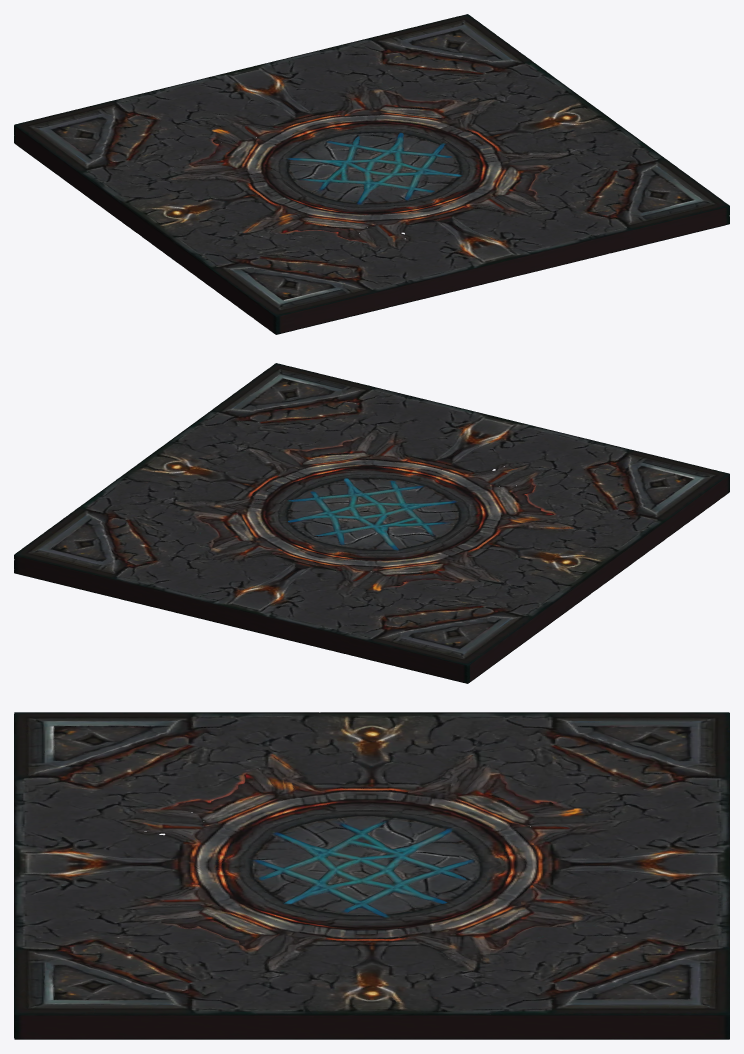
The model's file is HellFloor_RunePlate_A_UnrealReady.glb.
3 views of the same model, one above another, from view 1: azimuth 30°, elevation 25°; view 2: azimuth 150°, elevation 25°; view 3: azimuth 270°, elevation 25° (orthographic). The views are drawn at different scales.
Parts seen in each view (by area): view 1: HellFloor_RunePlate_A_UnrealReady; view 2: HellFloor_RunePlate_A_UnrealReady; view 3: HellFloor_RunePlate_A_UnrealReady.
Part boxes in pixels (x1,y1,x2,y2): HellFloor_RunePlate_A_UnrealReady: [14, 14, 729, 334]; HellFloor_RunePlate_A_UnrealReady: [14, 363, 729, 683]; HellFloor_RunePlate_A_UnrealReady: [14, 712, 729, 1039].
Bounding box in the file's own units: 6 × 0.24 × 6.
Materials: 1 (1 with a texture image).
